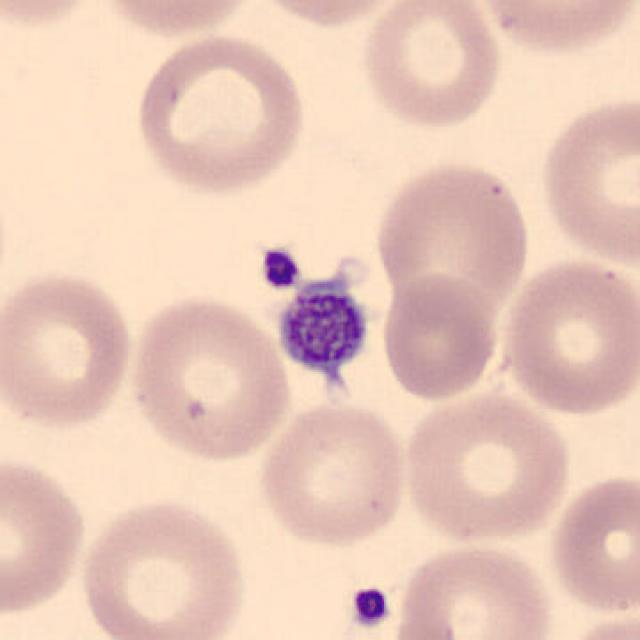Platelets: (272, 275, 375, 388), (256, 243, 304, 293), (346, 582, 394, 631)
RBC: (123, 289, 295, 467), (130, 30, 311, 199), (398, 388, 576, 546), (372, 155, 534, 325), (74, 492, 250, 640), (252, 399, 412, 550), (0, 264, 139, 434), (498, 254, 638, 418), (357, 0, 507, 132), (535, 90, 638, 271), (391, 539, 556, 640), (377, 272, 503, 404), (0, 451, 91, 621), (546, 467, 640, 619), (471, 0, 638, 58), (93, 0, 263, 41), (243, 0, 418, 32), (0, 0, 107, 32), (551, 608, 640, 640)
